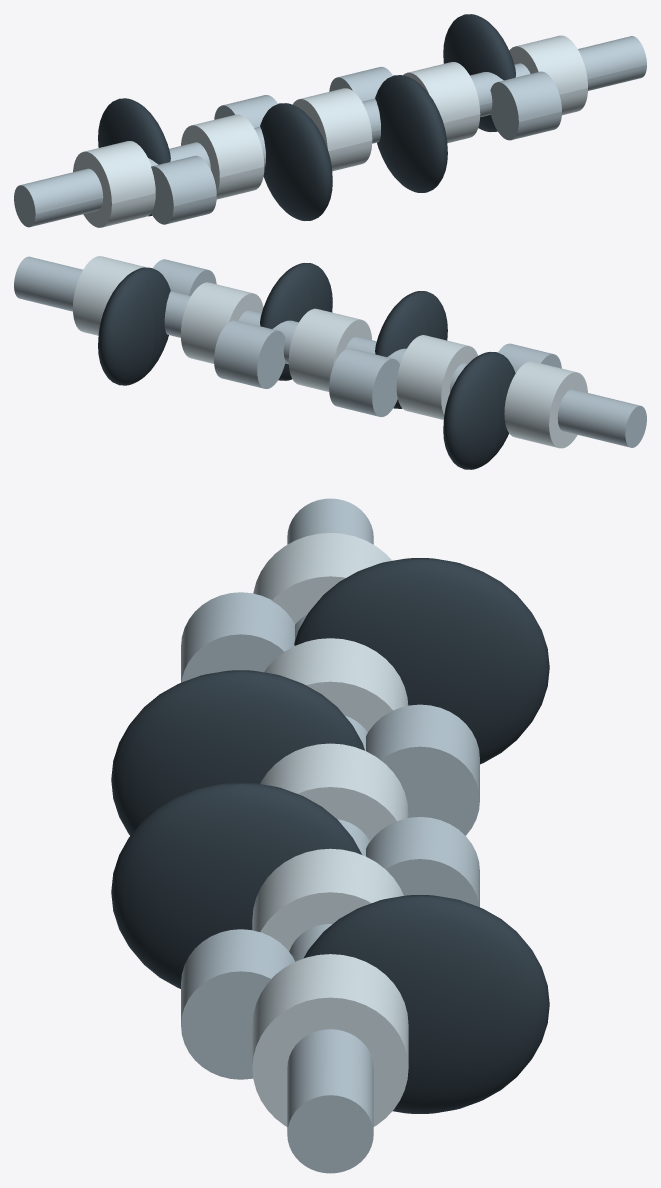
Rendered from g4ed_crank_pistons_rods.glb.
3 views of the same model, one above another, from view 1: azimuth 30°, elevation 25°; view 2: azimuth 150°, elevation 25°; view 3: azimuth 270°, elevation 25° (orthographic). The views are drawn at different scales.
Parts seen in each view (by area): view 1: asset_mesh__g4ed_027__axis, asset_mesh__g4ed_027__counterweight_3, asset_mesh__g4ed_027__counterweight_2, asset_mesh__g4ed_027__main_journal_1, asset_mesh__g4ed_027__main_journal_2, asset_mesh__g4ed_027__main_journal_3, asset_mesh__g4ed_027__rod_journal_4, asset_mesh__g4ed_027__rod_journal_1, asset_mesh__g4ed_027__counterweight_4, asset_mesh__g4ed_027__main_journal_4, asset_mesh__g4ed_027__main_journal_5, asset_mesh__g4ed_027__counterweight_1 (+2 smaller); view 2: asset_mesh__g4ed_027__axis, asset_mesh__g4ed_027__counterweight_4, asset_mesh__g4ed_027__counterweight_1, asset_mesh__g4ed_027__main_journal_1, asset_mesh__g4ed_027__main_journal_2, asset_mesh__g4ed_027__main_journal_3, asset_mesh__g4ed_027__rod_journal_3, asset_mesh__g4ed_027__rod_journal_2, asset_mesh__g4ed_027__main_journal_4, asset_mesh__g4ed_027__counterweight_3, asset_mesh__g4ed_027__counterweight_2, asset_mesh__g4ed_027__main_journal_5 (+2 smaller); view 3: asset_mesh__g4ed_027__counterweight_4, asset_mesh__g4ed_027__counterweight_1, asset_mesh__g4ed_027__counterweight_3, asset_mesh__g4ed_027__counterweight_2, asset_mesh__g4ed_027__main_journal_5, asset_mesh__g4ed_027__axis, asset_mesh__g4ed_027__rod_journal_4, asset_mesh__g4ed_027__rod_journal_2, asset_mesh__g4ed_027__main_journal_4, asset_mesh__g4ed_027__main_journal_3, asset_mesh__g4ed_027__rod_journal_1, asset_mesh__g4ed_027__main_journal_2 (+2 smaller).
Part boxes in pixels (box(x1,y1,x2,y2)): asset_mesh__g4ed_027__axis: box(14, 36, 646, 227); asset_mesh__g4ed_027__counterweight_3: box(375, 75, 447, 192); asset_mesh__g4ed_027__counterweight_2: box(260, 103, 332, 220); asset_mesh__g4ed_027__main_journal_1: box(73, 141, 155, 227); asset_mesh__g4ed_027__main_journal_2: box(181, 114, 264, 199); asset_mesh__g4ed_027__main_journal_3: box(293, 88, 372, 171); asset_mesh__g4ed_027__rod_journal_4: box(490, 71, 561, 140); asset_mesh__g4ed_027__rod_journal_1: box(151, 155, 216, 224); asset_mesh__g4ed_027__counterweight_4: box(443, 14, 515, 132); asset_mesh__g4ed_027__main_journal_4: box(403, 62, 480, 143); asset_mesh__g4ed_027__main_journal_5: box(509, 35, 587, 115); asset_mesh__g4ed_027__counterweight_1: box(98, 98, 170, 216); asset_mesh__g4ed_027__axis: box(14, 256, 646, 447); asset_mesh__g4ed_027__counterweight_4: box(98, 267, 170, 385); asset_mesh__g4ed_027__counterweight_1: box(443, 351, 515, 469); asset_mesh__g4ed_027__main_journal_1: box(504, 361, 587, 448); asset_mesh__g4ed_027__main_journal_2: box(396, 335, 477, 419); asset_mesh__g4ed_027__main_journal_3: box(288, 308, 371, 391); asset_mesh__g4ed_027__rod_journal_3: box(214, 320, 285, 388); asset_mesh__g4ed_027__rod_journal_2: box(329, 348, 399, 416); asset_mesh__g4ed_027__main_journal_4: box(180, 282, 263, 363); asset_mesh__g4ed_027__counterweight_3: box(260, 263, 332, 380); asset_mesh__g4ed_027__counterweight_2: box(375, 291, 447, 408); asset_mesh__g4ed_027__main_journal_5: box(73, 256, 146, 335); asset_mesh__g4ed_027__counterweight_4: box(303, 895, 549, 1113); asset_mesh__g4ed_027__counterweight_1: box(294, 558, 549, 764); asset_mesh__g4ed_027__counterweight_3: box(111, 782, 361, 988); asset_mesh__g4ed_027__counterweight_2: box(111, 670, 364, 835); asset_mesh__g4ed_027__main_journal_5: box(252, 954, 408, 1126); asset_mesh__g4ed_027__axis: box(287, 498, 373, 1173); asset_mesh__g4ed_027__rod_journal_4: box(181, 929, 294, 1079); asset_mesh__g4ed_027__rod_journal_2: box(366, 704, 479, 835); asset_mesh__g4ed_027__main_journal_4: box(252, 848, 403, 951); asset_mesh__g4ed_027__main_journal_3: box(260, 743, 408, 841); asset_mesh__g4ed_027__rod_journal_1: box(181, 592, 294, 682); asset_mesh__g4ed_027__main_journal_2: box(264, 638, 408, 732).
Size of the model in its own units: 4.25 by 0.7176 by 1.32.
